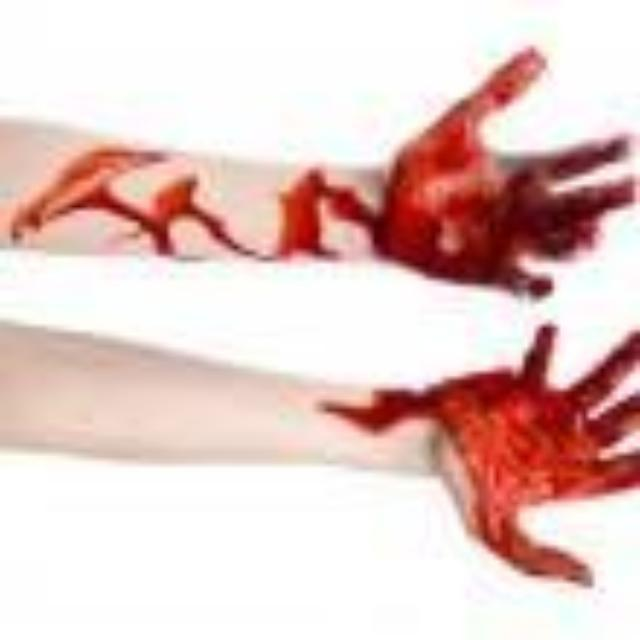blood: (279, 52, 640, 297), (326, 326, 640, 585), (12, 151, 256, 256)
